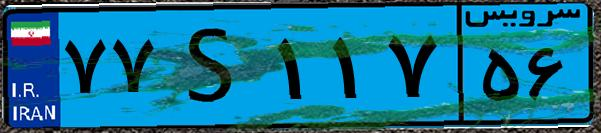1: (270, 28, 330, 110), (330, 28, 385, 110)
5: (475, 38, 525, 113)
6: (525, 38, 570, 115)
7: (385, 28, 445, 110), (57, 26, 110, 100), (110, 28, 158, 98)
S: (158, 12, 270, 120)
